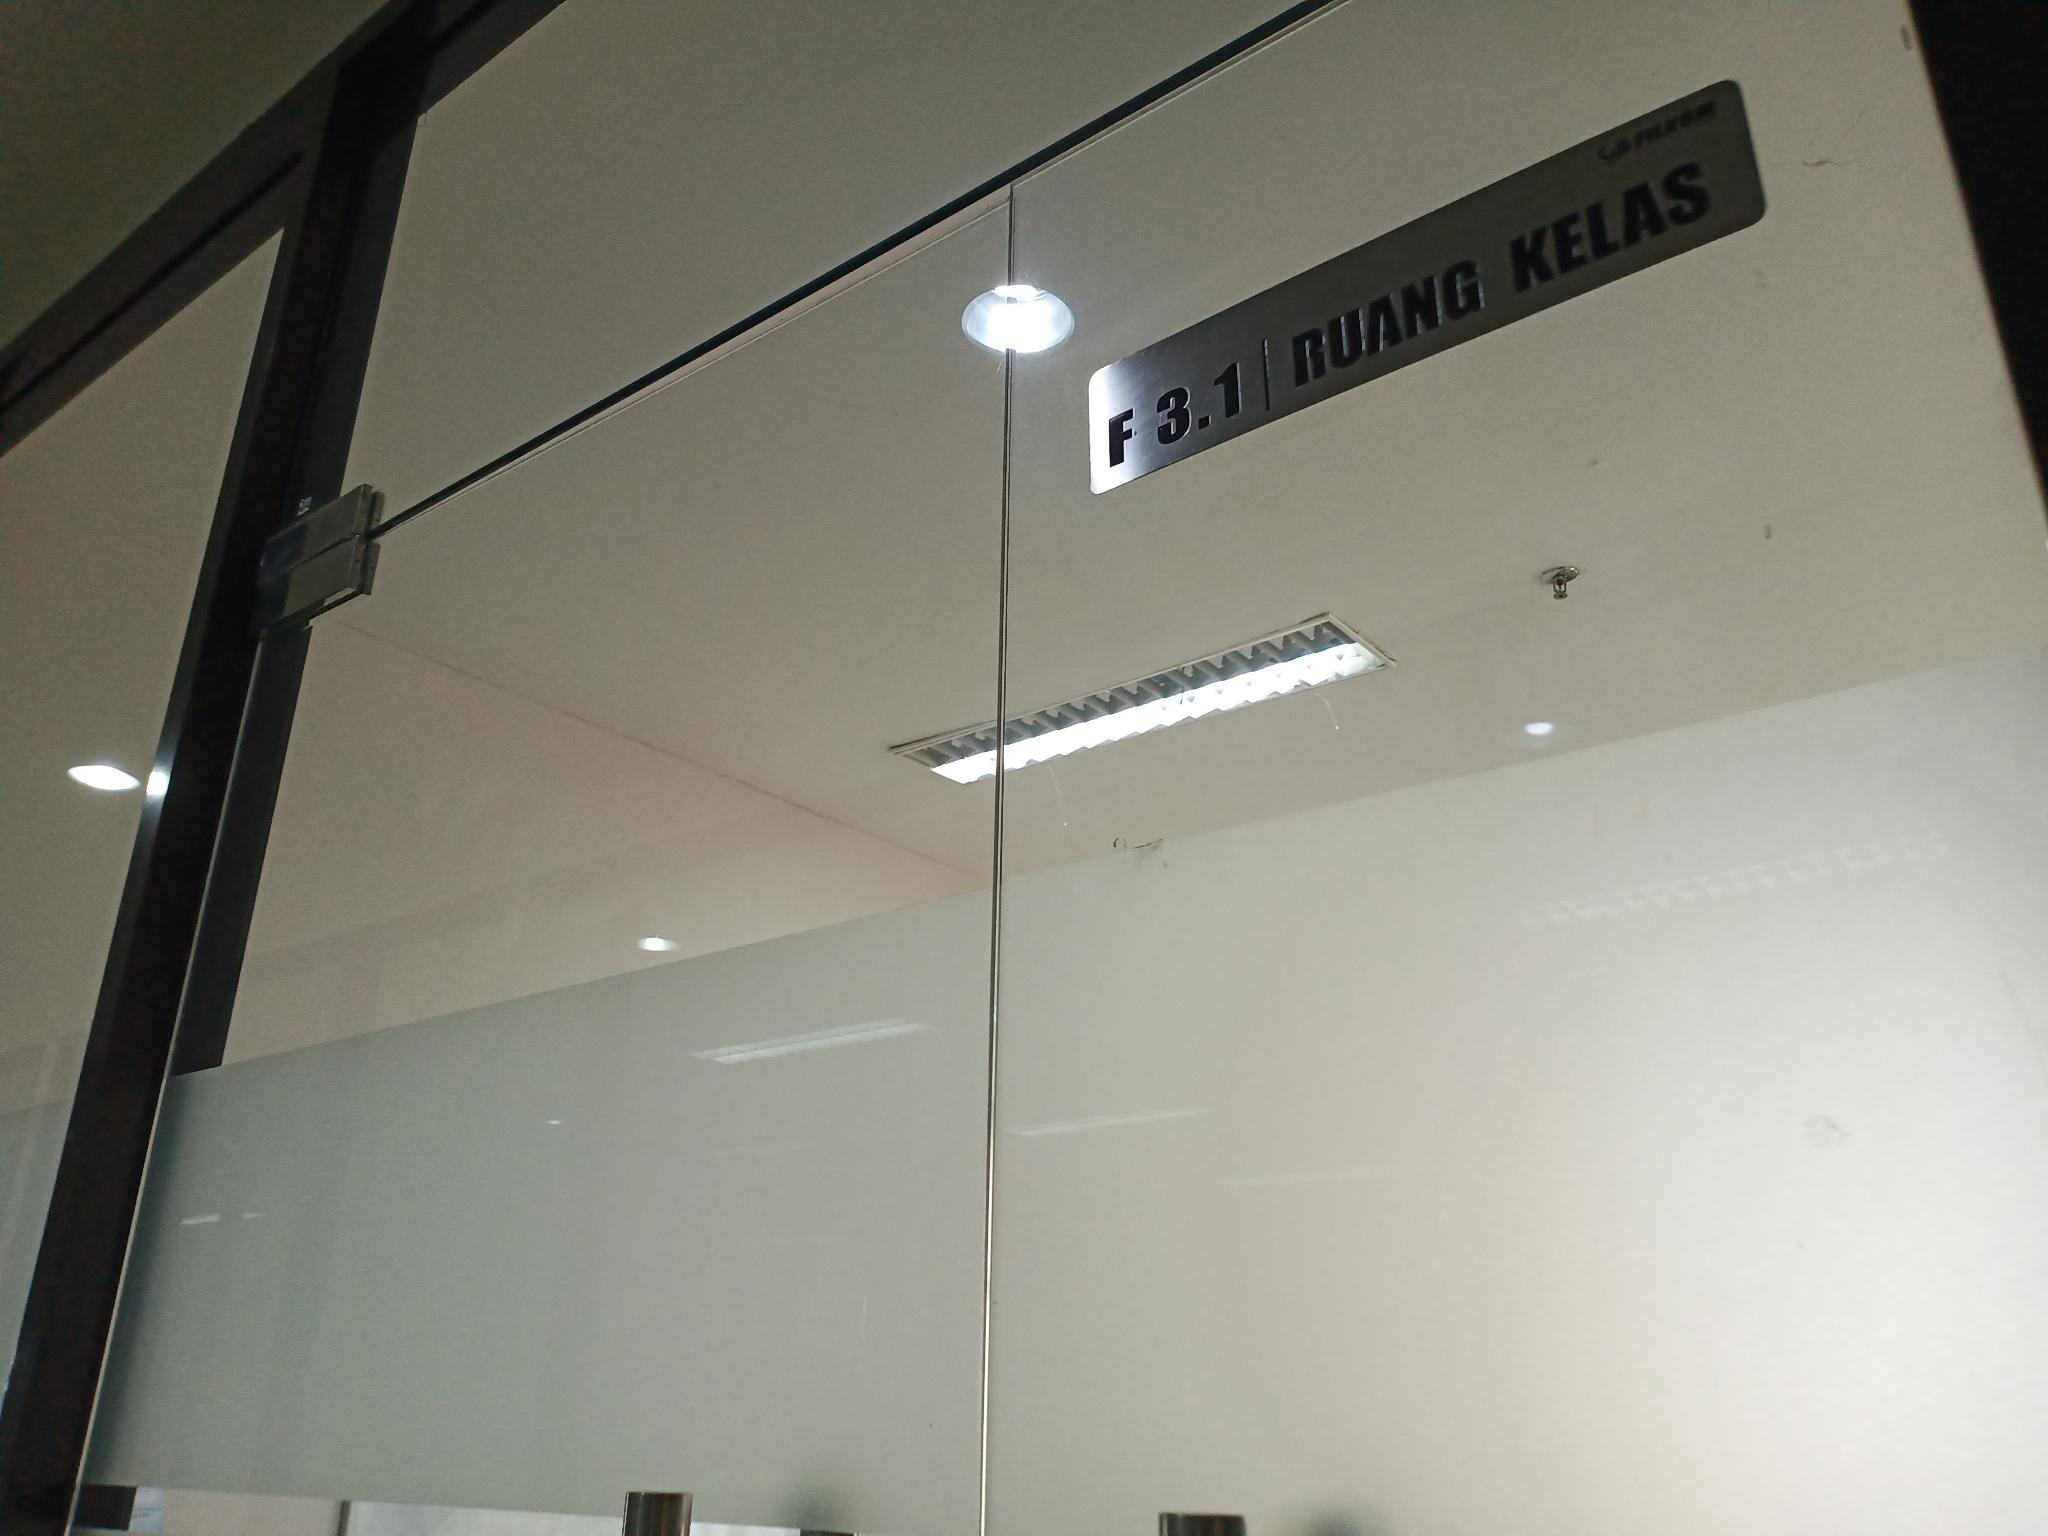plate: (1080, 73, 1777, 495)
